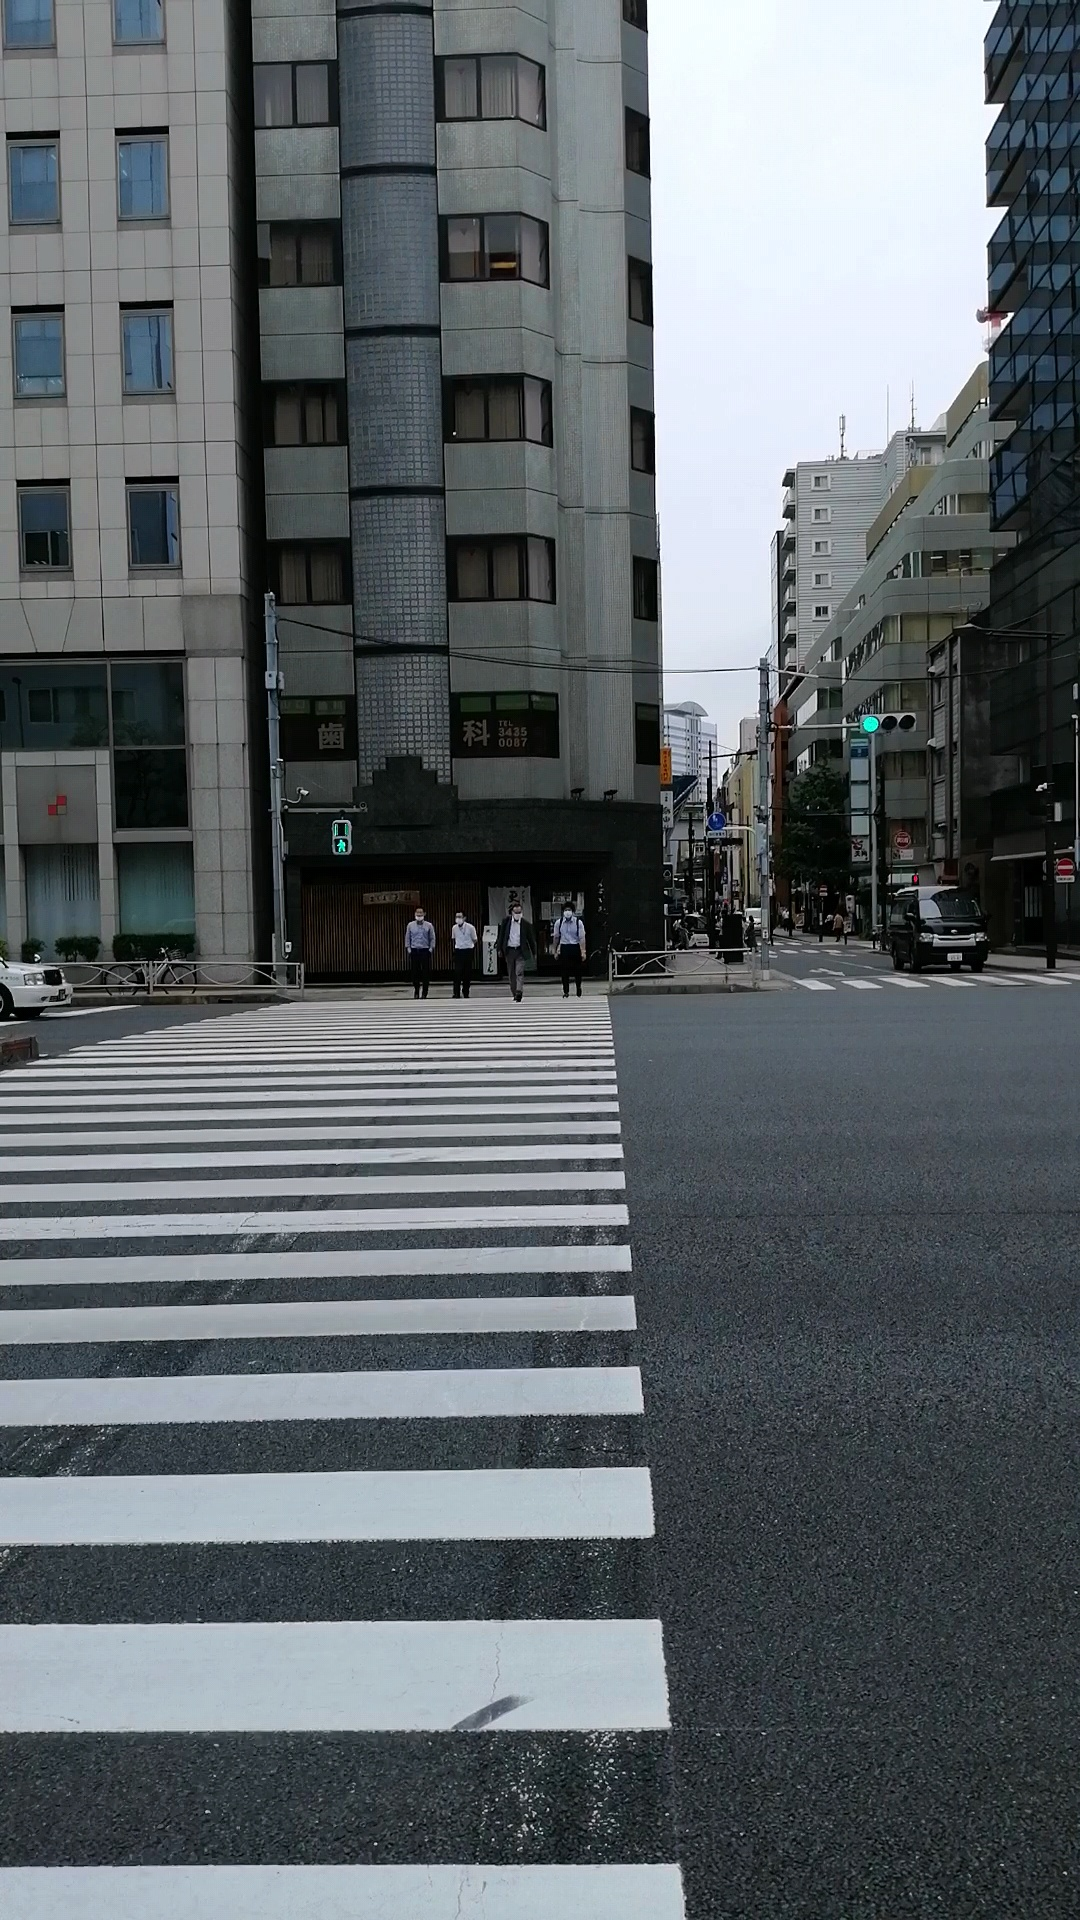green: (331, 818, 352, 856)
